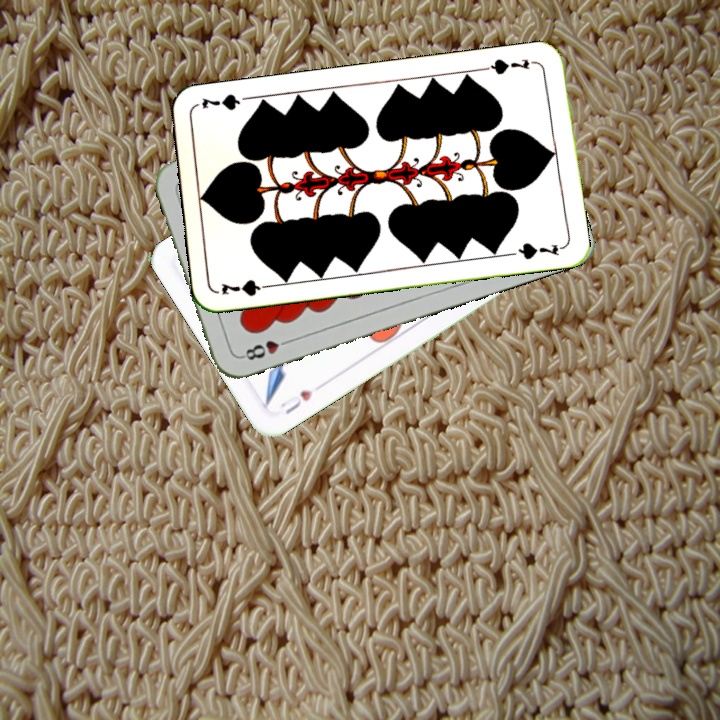G7: (217, 275, 276, 299), (481, 54, 540, 78)
H8: (237, 334, 295, 363)
HU: (276, 386, 316, 417)
